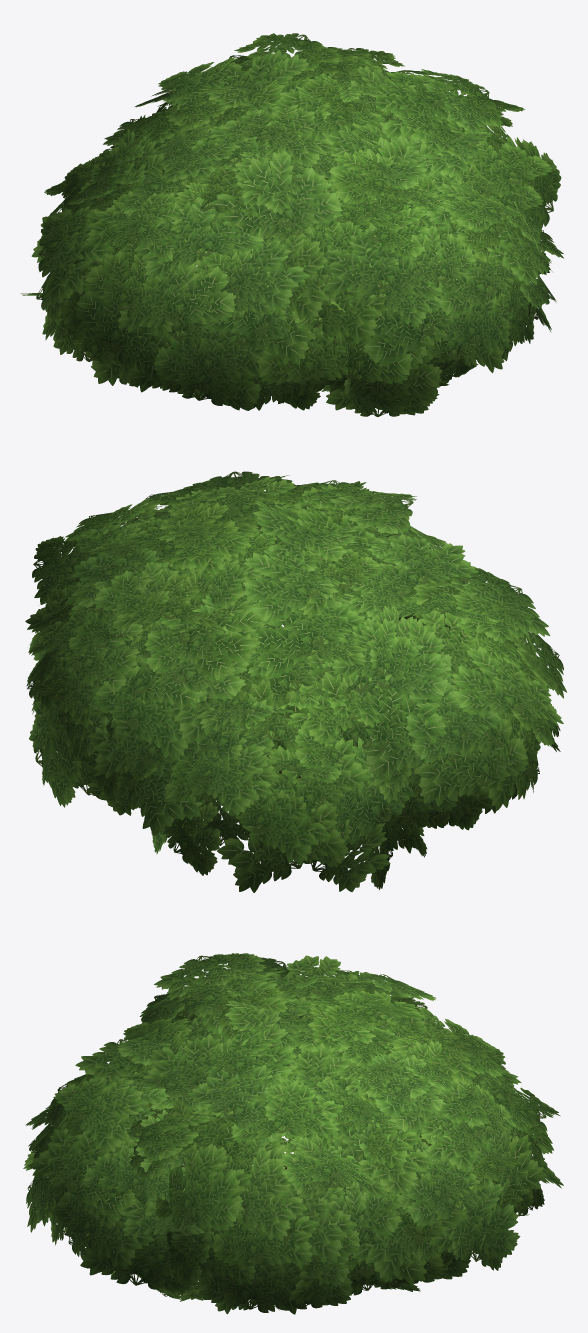
Rendered from bush_a.glb.
The picture shows the model from 3 angles, top to bottom: view 1: azimuth 30°, elevation 25°; view 2: azimuth 150°, elevation 25°; view 3: azimuth 270°, elevation 25°; orthographic projection. The views are drawn at different scales.
Visible parts, largest first — view 1: leaves; view 2: leaves; view 3: leaves.
Part boxes in pixels (left/top/right/bottom): leaves: left=20, top=33, right=563, bottom=416; leaves: left=25, top=471, right=566, bottom=892; leaves: left=23, top=953, right=563, bottom=1314.
Bounding box in the file's own units: 2.84 × 1.68 × 2.73.
Materials: 2 (2 with a texture image).
